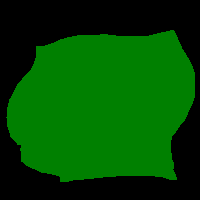mutande: (6, 30, 195, 182)
